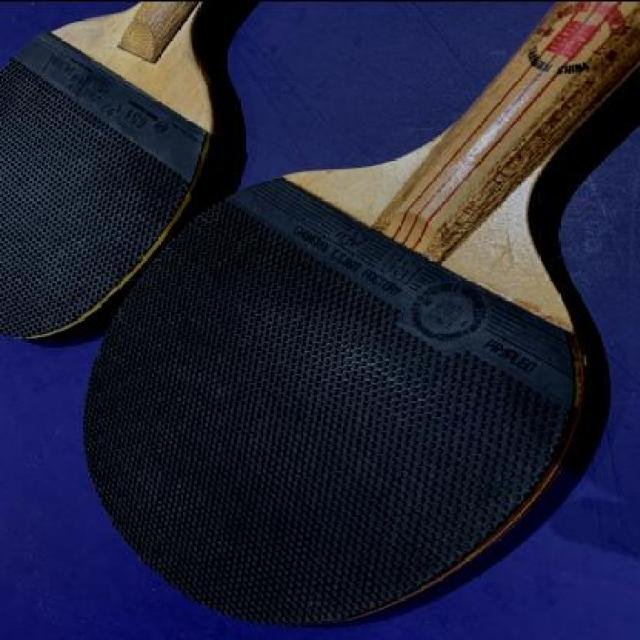table_tennis_racket: (77, 155, 592, 630), (0, 1, 226, 352)
